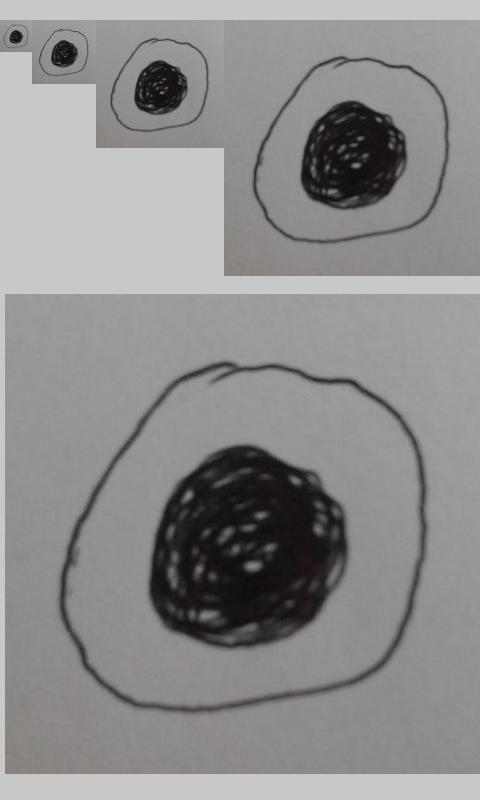radio_button: (57, 359, 431, 716), (251, 55, 450, 245), (109, 37, 210, 133), (37, 27, 91, 77), (1, 23, 30, 49)
